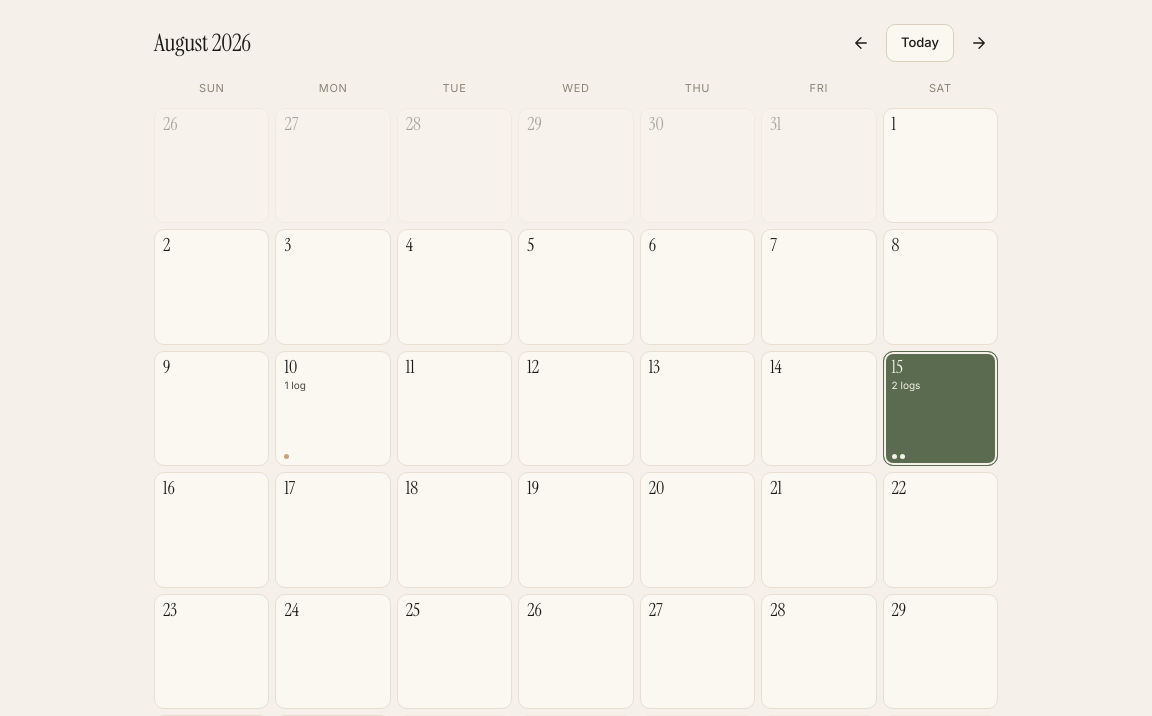
CalendarScreen › labels month navigation and keeps the selected day in the visible month
Check: the button named "Previous month" is shown, box left=842, top=25, right=880, bottom=61
Click the button named "Next month". click: [979, 43]
box: left=960, top=25, right=998, bottom=61
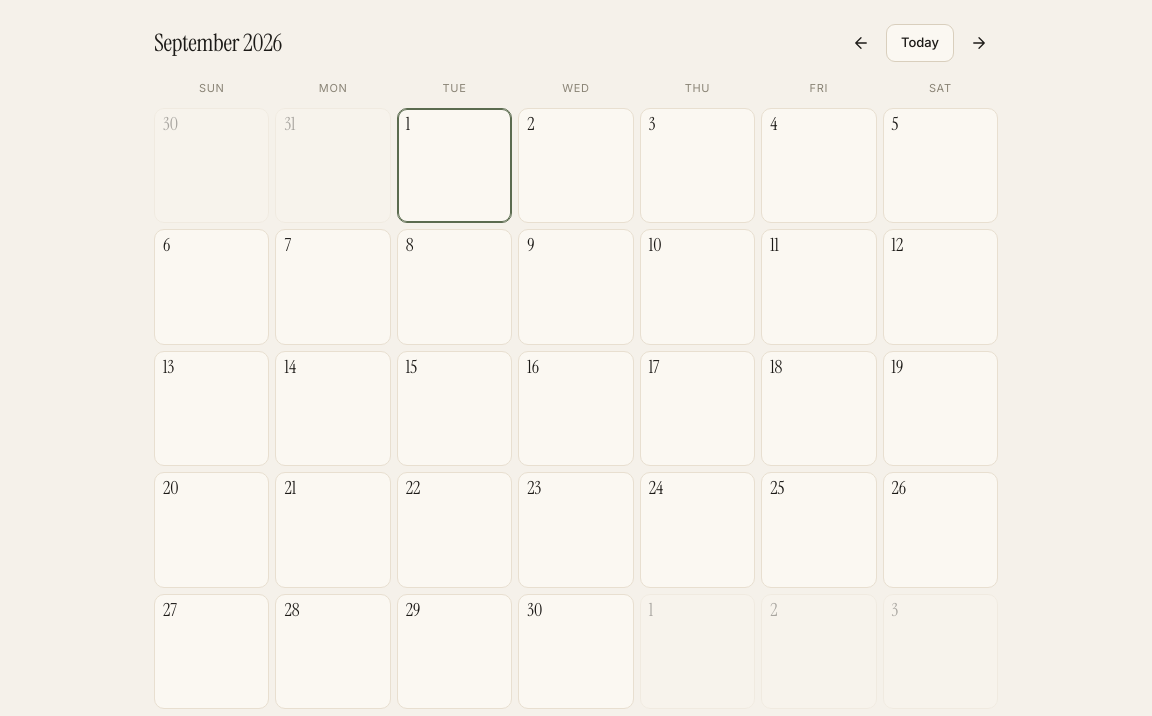
Check: the heading "September 2026" is shown, box left=154, top=25, right=282, bottom=61
